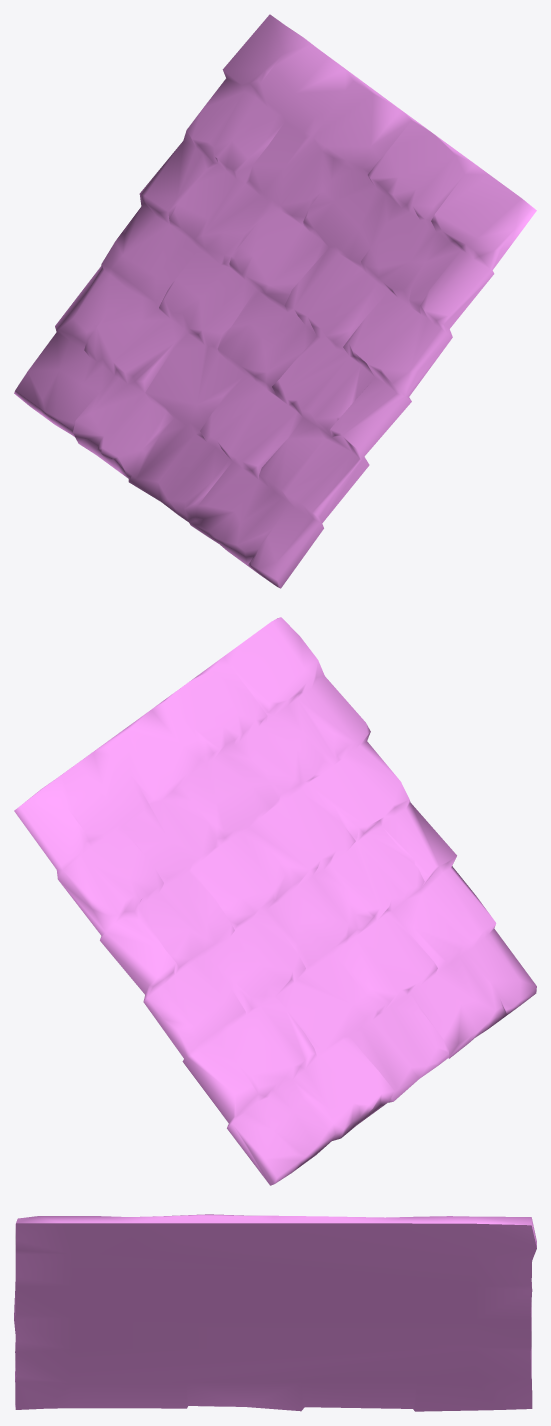
Rendered from small_roof_01.fbx.
The picture shows the model from 3 angles, top to bottom: view 1: azimuth 30°, elevation 25°; view 2: azimuth 150°, elevation 25°; view 3: azimuth 270°, elevation 25°; orthographic projection. The views are drawn at different scales.
Visible parts, largest first — view 1: small_roof_01_LOD0; view 2: small_roof_01_LOD0; view 3: small_roof_01_LOD0.
Part boxes in pixels (x1,y1,x2,y2): small_roof_01_LOD0: (14,14,536,588); small_roof_01_LOD0: (14,617,536,1185); small_roof_01_LOD0: (14,1214,536,1411).
Size of what is drawn, in the model's own units: 210 by 243 by 363.
